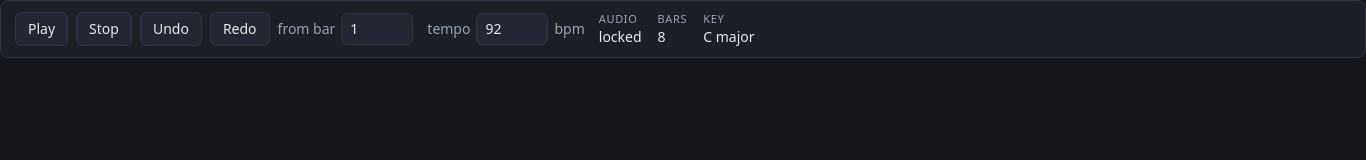
Test: Transport › creates the audio context on Play and starts from the chosen bar
This screenshot has width=1366, height=160.
Expected: the text with test id "audio-state" reads "locked", left=599, top=27, right=642, bottom=46
Replace the text in the number field named "Play from bar" with "5" at (377,29), box left=341, top=13, right=413, bottom=45
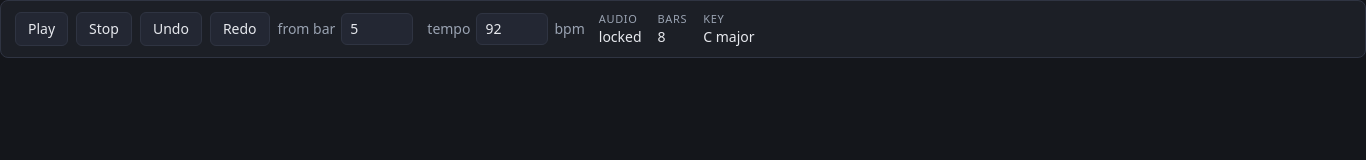
Click the button with test id "play".
click(42, 29)  # box left=15, top=12, right=68, bottom=46
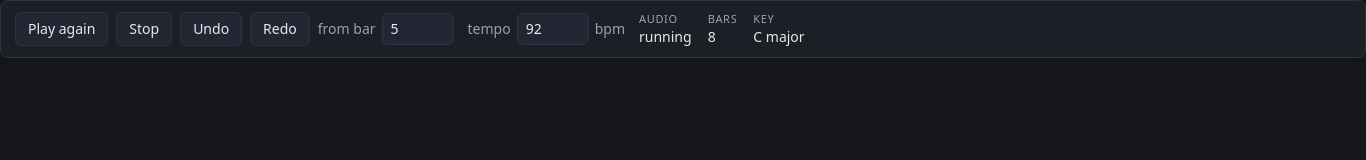
Now the text with test id "audio-state" reads "running", box left=639, top=27, right=692, bottom=46
